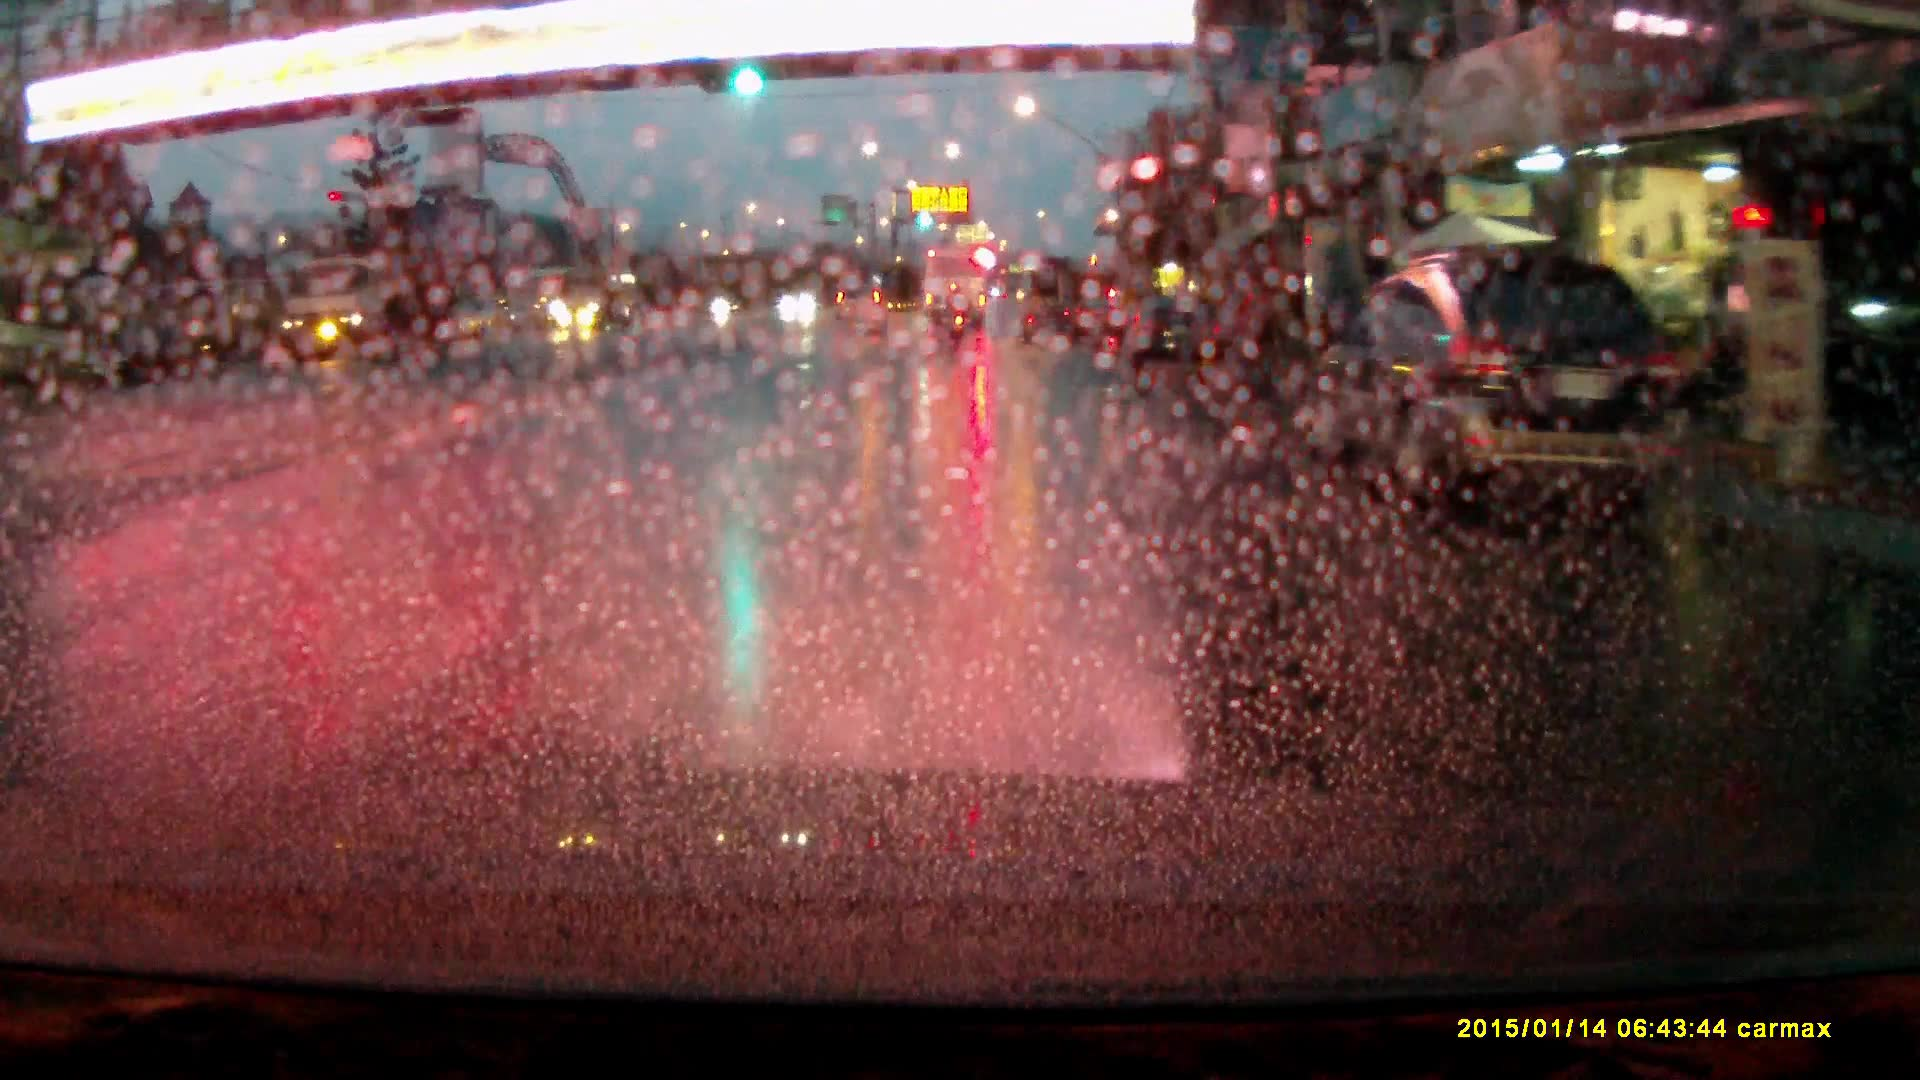rider: (947, 293, 970, 347)
vehicle: (1307, 249, 1716, 513), (275, 261, 446, 362), (1122, 297, 1225, 380), (919, 245, 988, 335), (550, 271, 645, 332), (1064, 299, 1131, 351), (831, 273, 887, 320)
